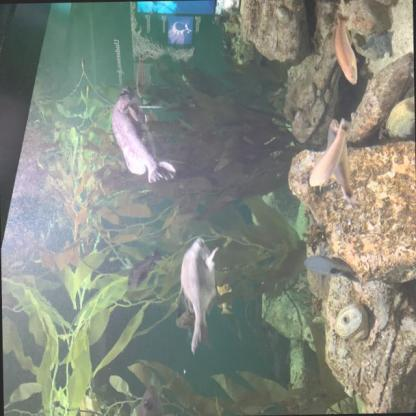fish: (108, 83, 176, 185), (174, 233, 223, 357), (306, 116, 353, 191), (325, 119, 357, 204), (330, 9, 361, 87), (304, 253, 360, 286), (123, 249, 164, 292), (134, 383, 176, 415)
